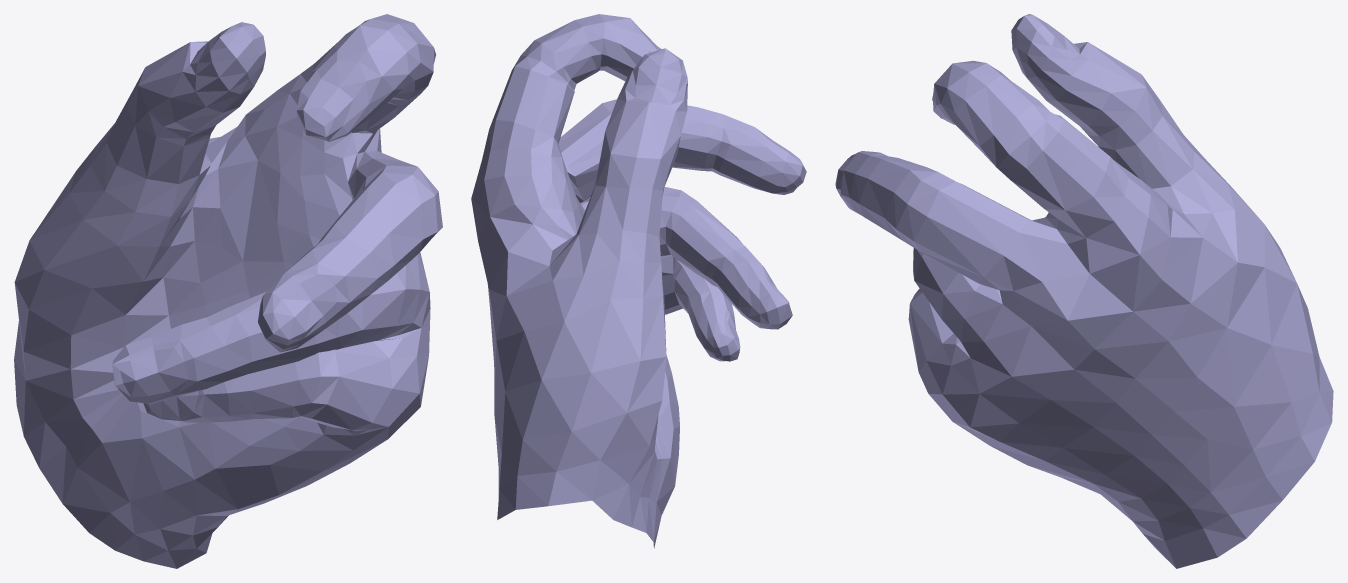
The model's file is hand_0025.glb.
3 views of the same model, side by side, from view 1: azimuth 30°, elevation 25°; view 2: azimuth 150°, elevation 25°; view 3: azimuth 270°, elevation 25° (orthographic). The views are drawn at different scales.
Visible parts, largest first — view 1: world; view 2: world; view 3: world.
Part boxes in pixels (x1,y1,x2,y2): world: [14, 14, 442, 568]; world: [471, 14, 806, 548]; world: [835, 14, 1333, 568].
Size of the model in its own units: 0.0847 by 0.1414 by 0.1201.
